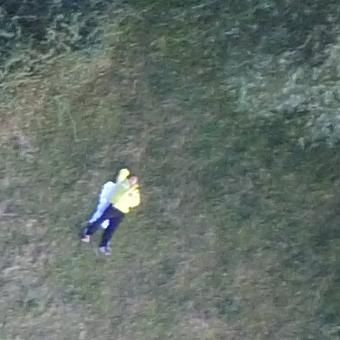human: (82, 171, 141, 255)
